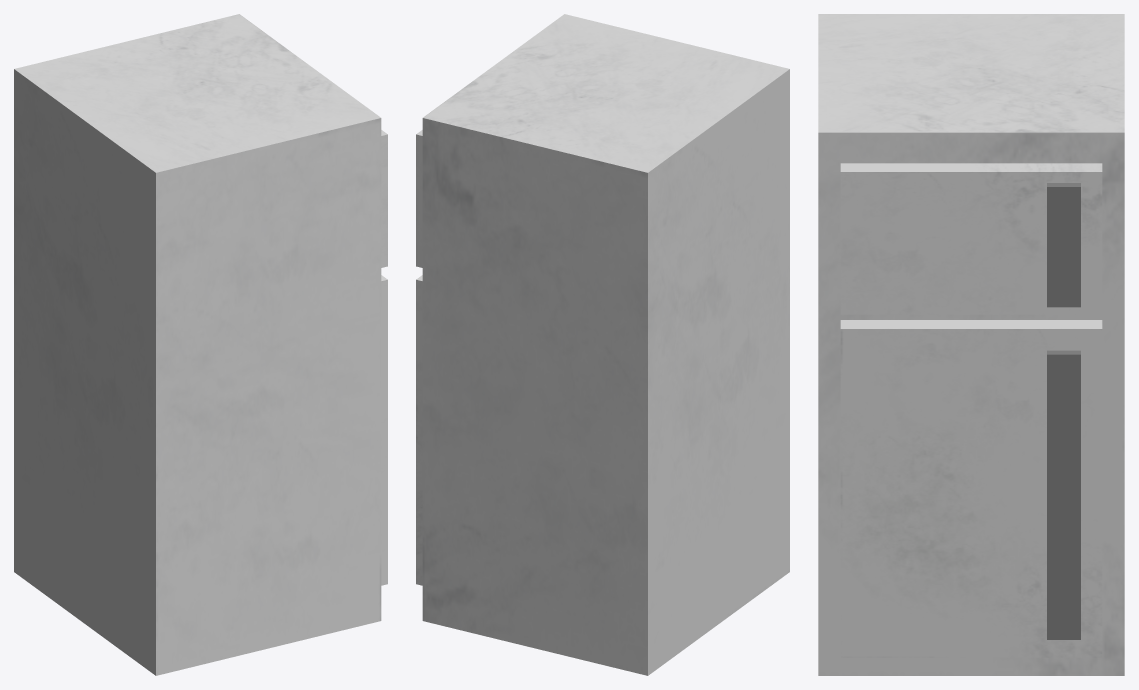
File: geladeira.glb
3 renders of one model, left to right at view 1: azimuth 30°, elevation 25°; view 2: azimuth 150°, elevation 25°; view 3: azimuth 270°, elevation 25°, orthographic. The views are drawn at different scales.
Visible parts, largest first — view 1: Cube.011; view 2: Cube.011; view 3: Cube.011.
Part boxes in pixels (x1,y1,x2,y2): Cube.011: (14,14,387,675); Cube.011: (416,14,789,675); Cube.011: (818,14,1124,675).
Bounding box in the file's own units: 1.22 × 2.35 × 1.2.
Materials: 1 (1 with a texture image).
